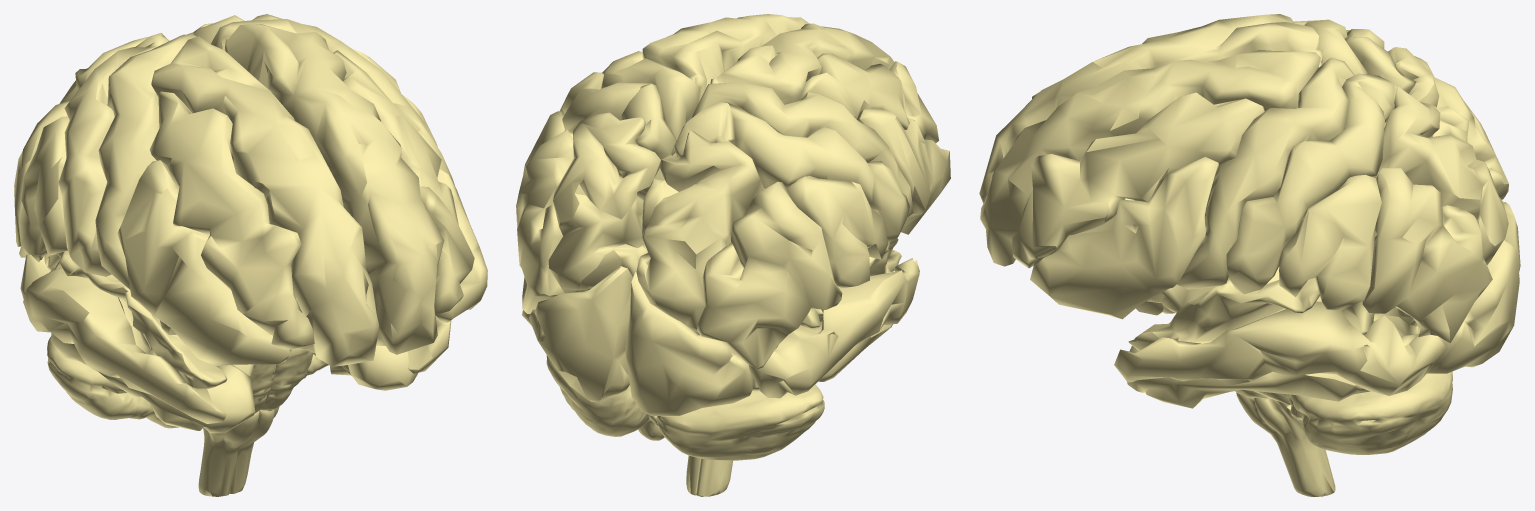
Rendered from cerebro.glb.
3 views of the same model, side by side, from view 1: azimuth 30°, elevation 25°; view 2: azimuth 150°, elevation 25°; view 3: azimuth 270°, elevation 25° (orthographic). The views are drawn at different scales.
Parts seen in each view (by area): view 1: lobulo_frontal_der, lobulo_frontal_izq, lobulo_parietal_der, lobulo_temporal_der, tronco_encefalo, resto_hemisferio_der, cerebelo, lobulo_temporal_izq, lobulo_parietal_izq; view 2: lobulo_parietal_der, lobulo_parietal_izq, lobulo_frontal_der, cerebelo, lobulo_occipital_der, lobulo_temporal_der, lobulo_frontal_izq, lobulo_occipital_izq, tronco_encefalo, resto_hemisferio_der; view 3: lobulo_frontal_izq, lobulo_parietal_izq, lobulo_temporal_izq, lobulo_frontal_der, cerebelo, resto_hemisferio_izq, lobulo_parietal_der, lobulo_occipital_izq, tronco_encefalo, insula_izq.
Boxes of the visible parts, bbox=[...] form: lobulo_frontal_der: bbox=[95, 34, 379, 366]; lobulo_frontal_izq: bbox=[211, 19, 487, 354]; lobulo_parietal_der: bbox=[14, 33, 169, 276]; lobulo_temporal_der: bbox=[20, 254, 255, 433]; tronco_encefalo: bbox=[198, 348, 313, 496]; resto_hemisferio_der: bbox=[48, 251, 315, 389]; cerebelo: bbox=[47, 336, 328, 428]; lobulo_temporal_izq: bbox=[312, 315, 451, 390]; lobulo_parietal_izq: bbox=[187, 14, 437, 146]; lobulo_parietal_der: bbox=[636, 101, 909, 369]; lobulo_parietal_izq: bbox=[516, 72, 675, 313]; lobulo_frontal_der: bbox=[691, 23, 950, 234]; cerebelo: bbox=[546, 355, 824, 460]; lobulo_occipital_der: bbox=[625, 270, 754, 416]; lobulo_temporal_der: bbox=[748, 258, 919, 398]; lobulo_frontal_izq: bbox=[601, 14, 809, 156]; lobulo_occipital_izq: bbox=[529, 266, 632, 402]; tronco_encefalo: bbox=[686, 455, 732, 496]; resto_hemisferio_der: bbox=[801, 238, 901, 327]; lobulo_frontal_izq: bbox=[980, 50, 1354, 319]; lobulo_parietal_izq: bbox=[1226, 73, 1508, 343]; lobulo_temporal_izq: bbox=[1114, 301, 1447, 408]; lobulo_frontal_der: bbox=[979, 14, 1367, 203]; cerebelo: bbox=[1287, 371, 1452, 454]; resto_hemisferio_izq: bbox=[1123, 122, 1420, 350]; lobulo_parietal_der: bbox=[1344, 29, 1508, 199]; lobulo_occipital_izq: bbox=[1427, 239, 1519, 373]; tronco_encefalo: bbox=[1235, 389, 1335, 496]; insula_izq: bbox=[1147, 277, 1229, 312].
Bounding box in the file's own units: 0.1382 × 0.1659 × 0.1799.
